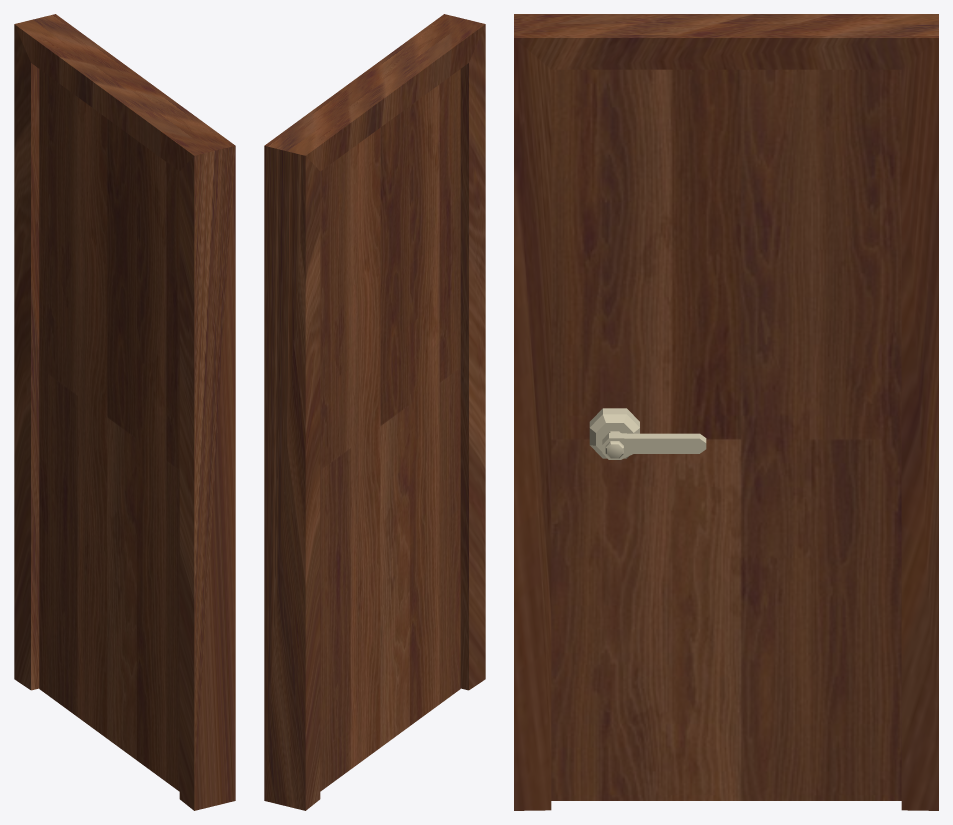
The model's file is door.glb.
3 views of the same model, side by side, from view 1: azimuth 30°, elevation 25°; view 2: azimuth 150°, elevation 25°; view 3: azimuth 270°, elevation 25° (orthographic). The views are drawn at different scales.
Parts seen in each view (by area): view 1: Door.001, DoorFrame.001; view 2: Door.001, DoorFrame.001; view 3: Door.001, DoorFrame.001.
Part boxes in pixels (x1,y1,x2,y2): Door.001: [39, 69, 179, 791]; DoorFrame.001: [14, 14, 235, 810]; Door.001: [320, 69, 460, 791]; DoorFrame.001: [264, 14, 485, 810]; Door.001: [551, 69, 901, 800]; DoorFrame.001: [514, 14, 938, 810].
Size of the model in its own units: 21.09 by 219 by 109.
Materials: 2 (1 with a texture image).
